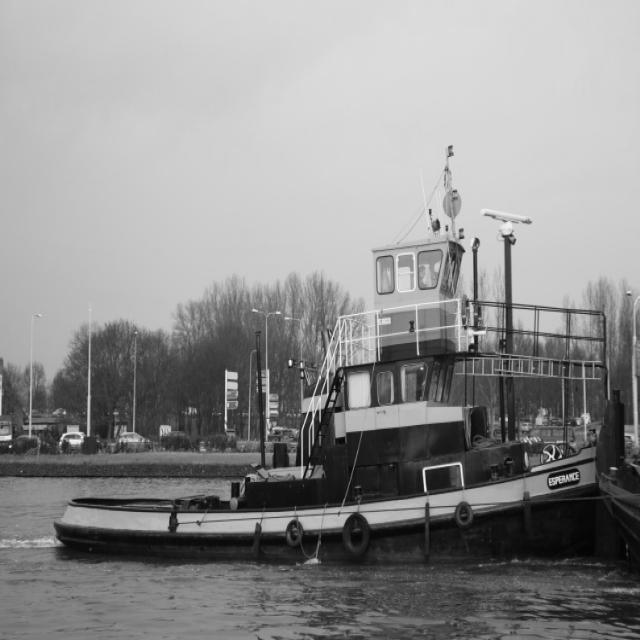tugboat: (50, 229, 629, 578)
